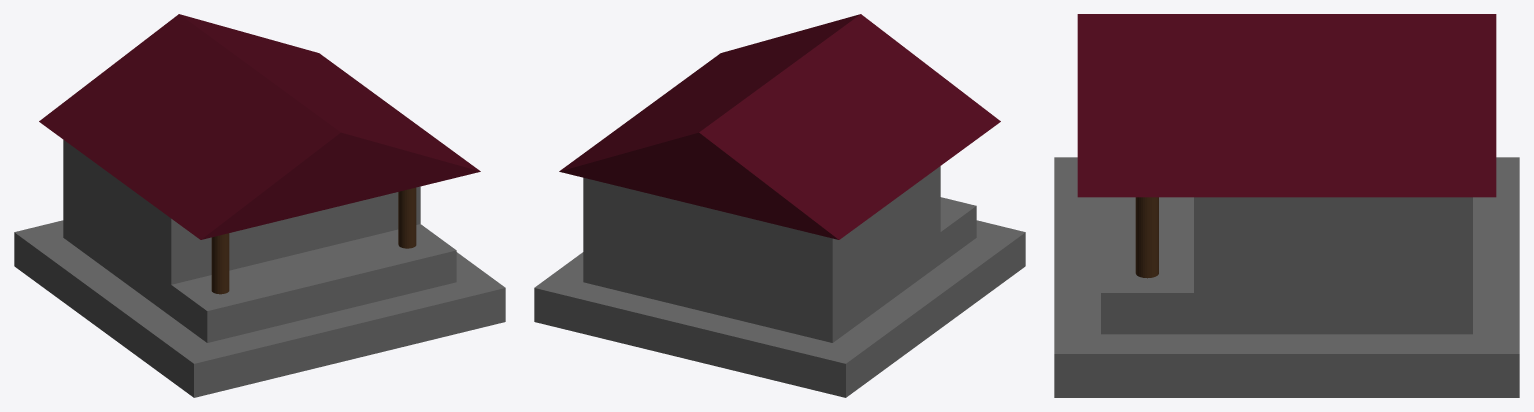
Rendered from townHall.fbx.
3 renders of one model, left to right at view 1: azimuth 30°, elevation 25°; view 2: azimuth 150°, elevation 25°; view 3: azimuth 270°, elevation 25°, orthographic. The views are drawn at different scales.
Visible parts, largest first — view 1: Cube_003, Cube, Cube_001, Cube_002, Cylinder_001, Cylinder; view 2: Cube_003, Cube_002, Cube, Cube_001; view 3: Cube_003, Cube, Cube_002, Cube_001, Cylinder_001.
Part boxes in pixels (x1,y1,x2,y2): Cube_003: (39, 14, 480, 239); Cube: (14, 220, 505, 397); Cube_001: (63, 206, 456, 342); Cube_002: (63, 140, 420, 308); Cylinder_001: (398, 187, 416, 248); Cylinder: (211, 233, 229, 294); Cube_003: (559, 14, 1000, 239); Cube_002: (583, 166, 940, 342); Cube: (534, 220, 1025, 397); Cube_001: (760, 197, 976, 342); Cube_003: (1077, 14, 1496, 197); Cube: (1054, 157, 1519, 397); Cube_002: (1194, 197, 1472, 334); Cube_001: (1101, 197, 1472, 334); Cylinder_001: (1135, 197, 1158, 278).
Size of the model in its own units: 2 by 1.35 by 2.
